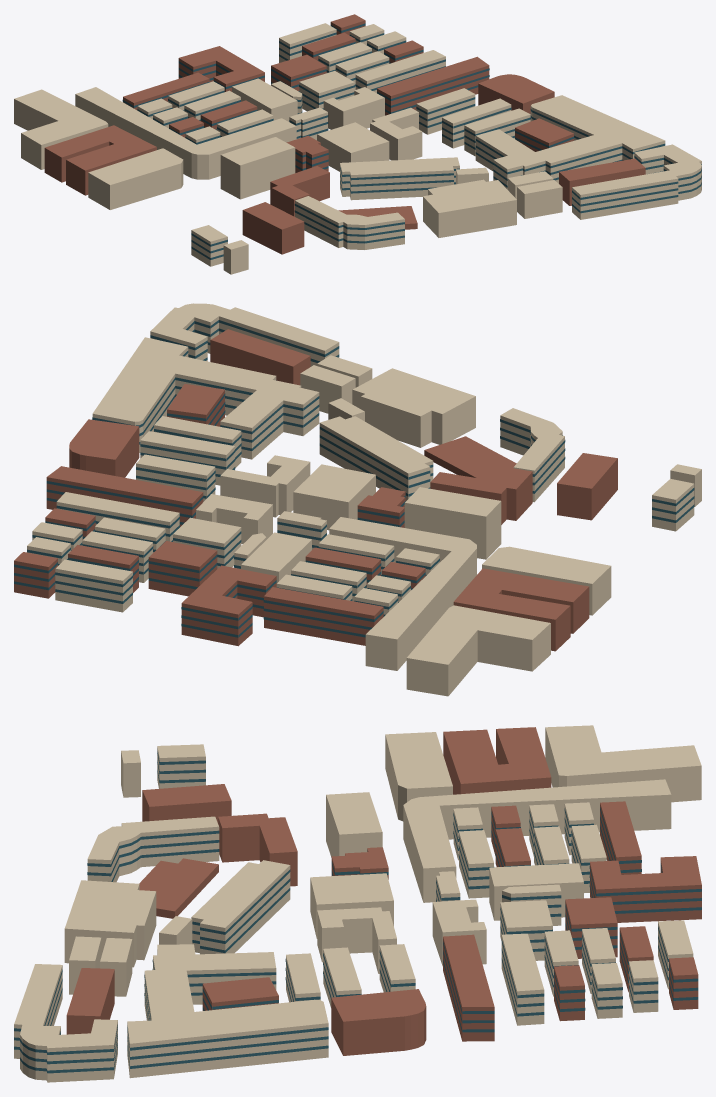
File: city_-3_5.glb
The picture shows the model from 3 angles, top to bottom: view 1: azimuth 30°, elevation 25°; view 2: azimuth 150°, elevation 25°; view 3: azimuth 270°, elevation 25°; orthographic projection. The views are drawn at different scales.
Parts seen in each view (by area): view 1: city_-3_5; view 2: city_-3_5; view 3: city_-3_5.
Part boxes in pixels (box(x1,y1,x2,y2)): city_-3_5: box(14, 14, 701, 274); city_-3_5: box(14, 303, 701, 696); city_-3_5: box(14, 725, 701, 1082).
Size of the model in its own units: 302 by 20.4 by 272.
